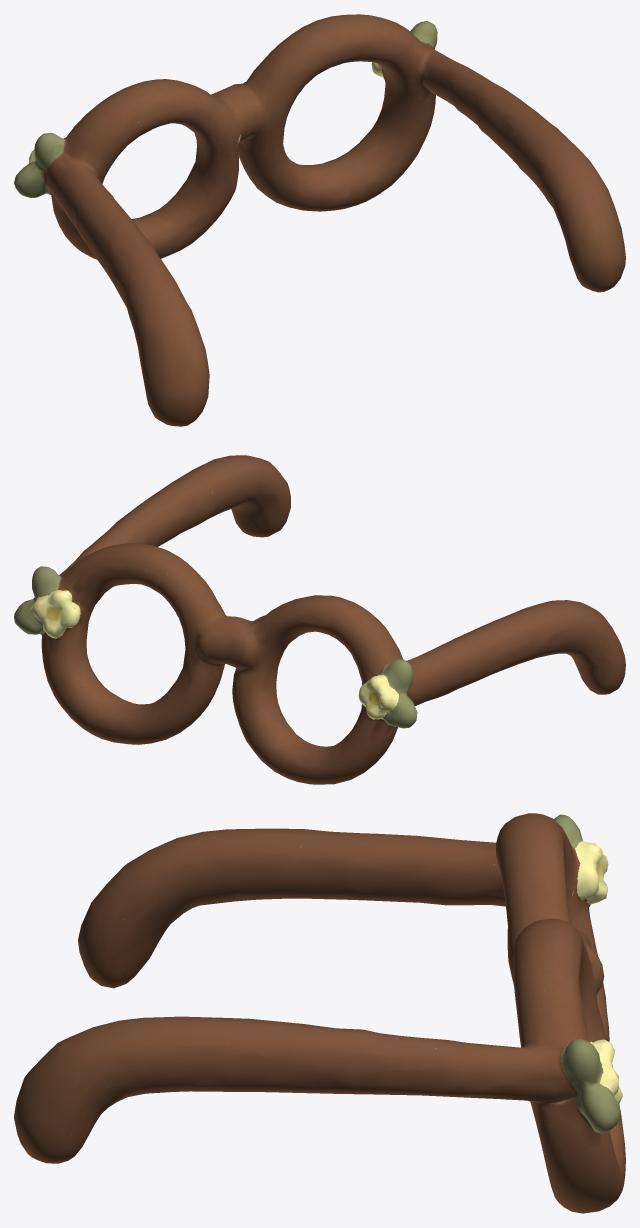
The model's file is round_glasses.glb.
3 renders of one model, top to bottom at view 1: azimuth 30°, elevation 25°; view 2: azimuth 150°, elevation 25°; view 3: azimuth 270°, elevation 25°, orthographic. The views are drawn at different scales.
Parts seen in each view (by area): view 1: round_glasses; view 2: round_glasses; view 3: round_glasses.
Boxes of the visible parts, x1=… form: round_glasses: x1=14, y1=14, x2=625, y2=426; round_glasses: x1=14, y1=455, x2=625, y2=784; round_glasses: x1=14, y1=813, x2=625, y2=1213.
Size of the model in its own units: 0.7688 by 0.3121 by 0.6639.
Materials: 1 (1 with a texture image).
